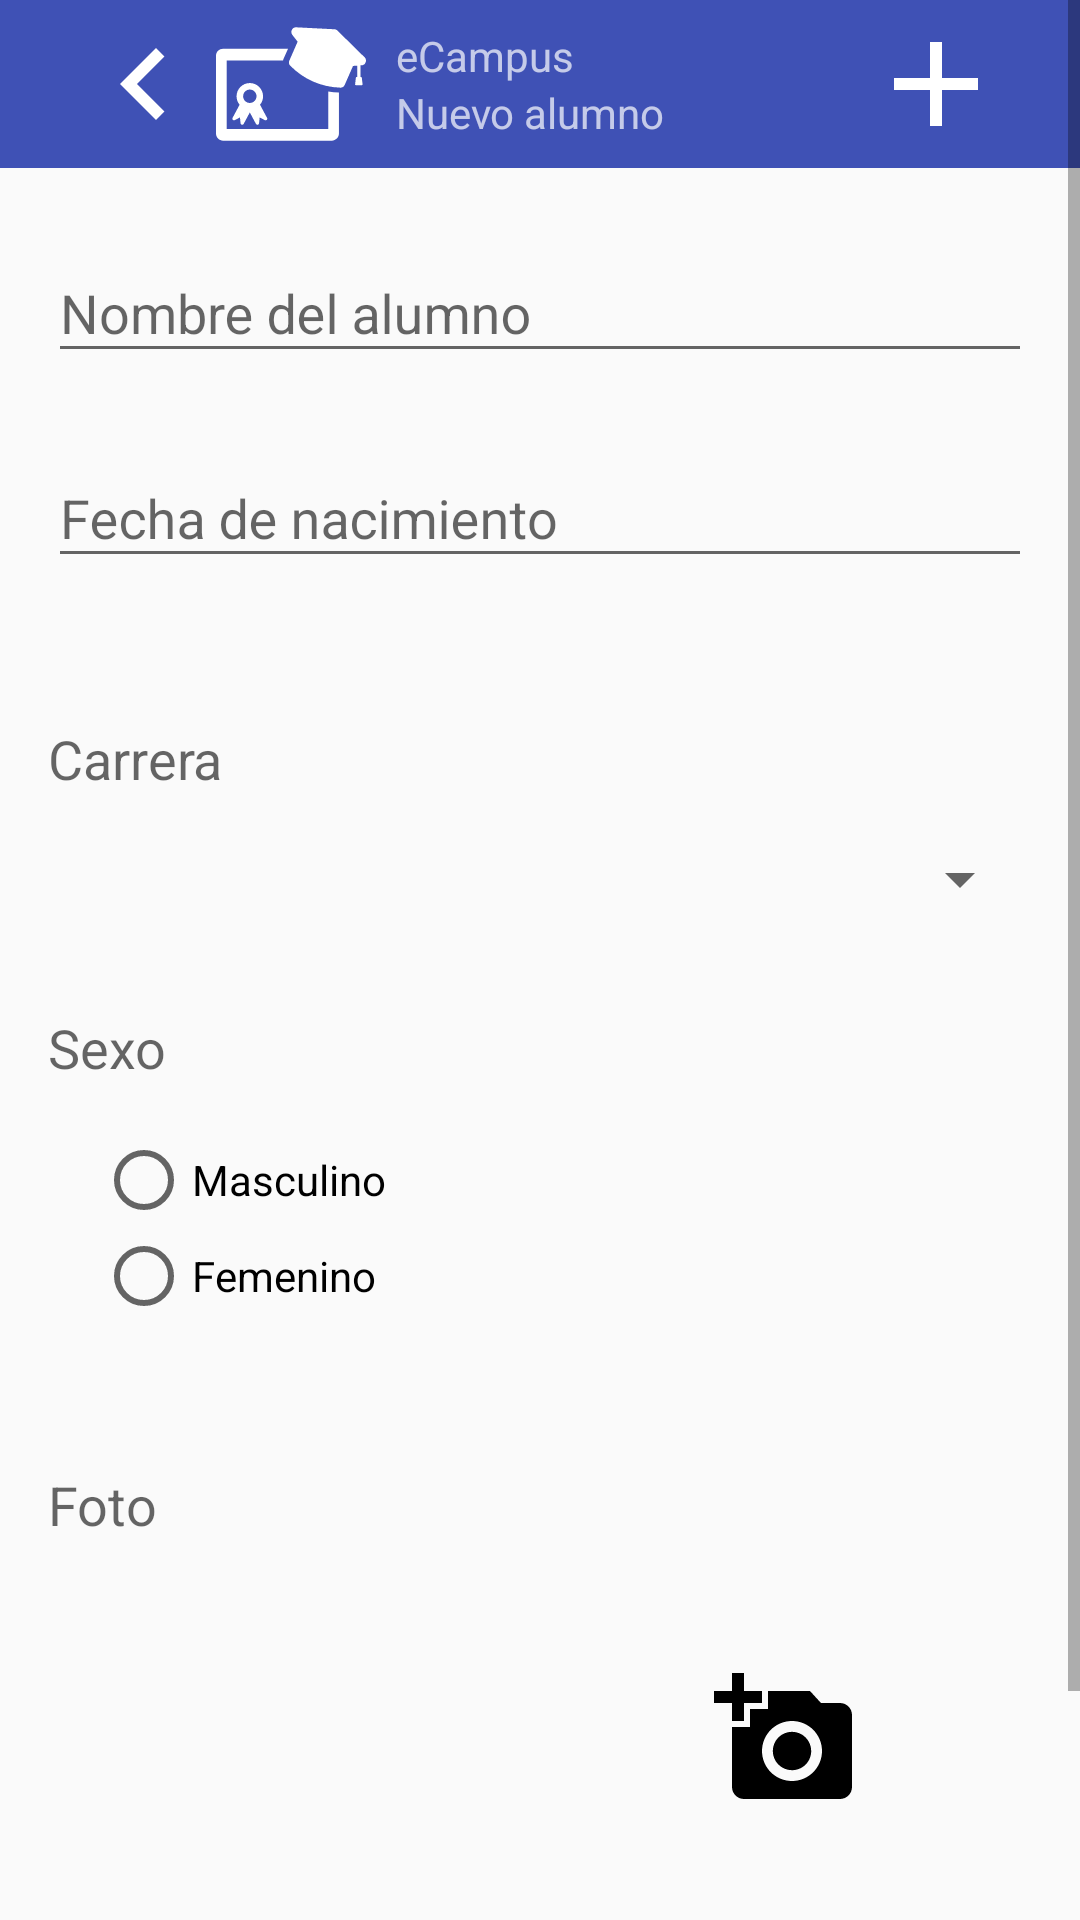

Locate icon controls on the screen. Image size 1080px x 1920px, boxes as BBox(x1, y1, x2, y2).
add toolbar: BBox(894, 42, 978, 126)
back toolbar: BBox(120, 48, 165, 120)
camara: BBox(714, 1673, 852, 1799)
